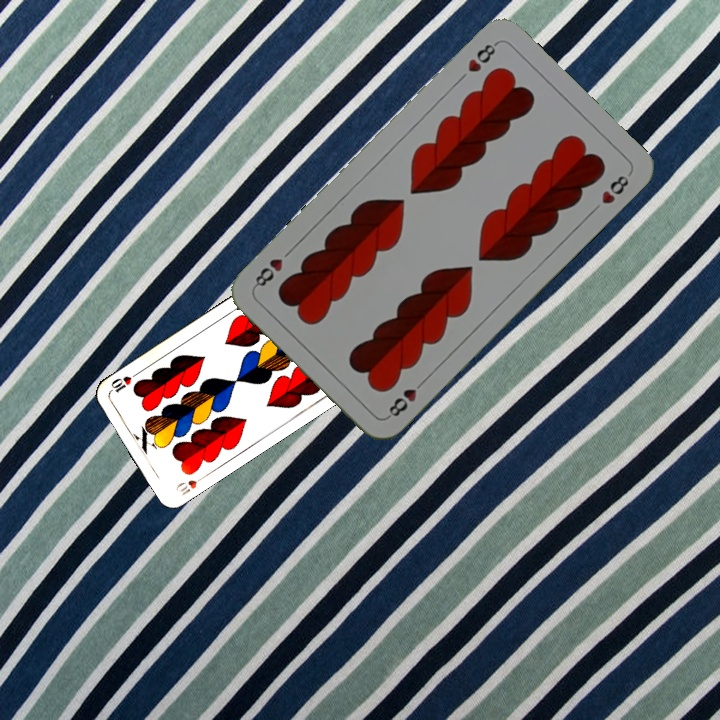H10: (171, 471, 210, 498)
H8: (382, 375, 429, 421), (463, 38, 501, 75)
